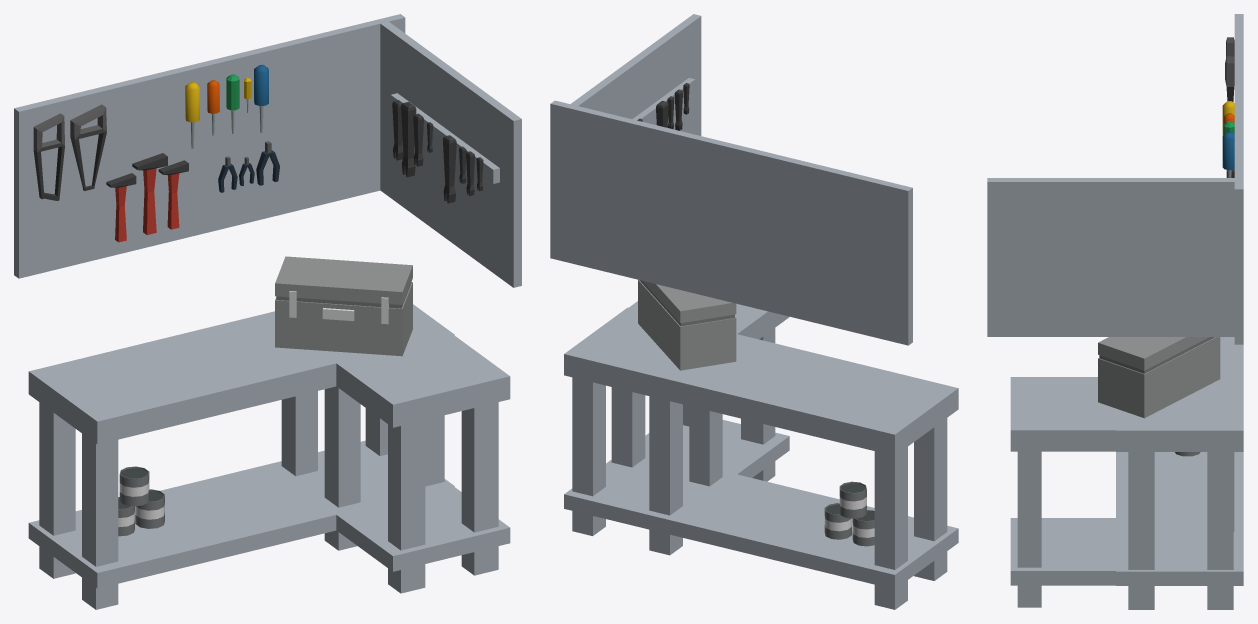
The model's file is Garage-Table.fbx.
3 renders of one model, left to right at view 1: azimuth 30°, elevation 25°; view 2: azimuth 150°, elevation 25°; view 3: azimuth 270°, elevation 25°, orthographic. The views are drawn at different scales.
Parts seen in each view (by area): view 1: Garage-Table, Box-4, Saw-3, Saw-2, Hammer-2, Paint-Box-5, Wrench-2, Paint-Box-4, Hammer-3, Hammer-1, Wrench-5, Screwdriver-5 (+1 smaller); view 2: Garage-Table, Box-4, Paint-Box-5, Paint-Box-4, Paint-Box-6; view 3: Garage-Table, Box-4, Screwdriver-5, Saw-2.
Part boxes in pixels (bbox=[...]): Garage-Table: bbox=[14, 14, 521, 609]; Box-4: bbox=[275, 256, 412, 356]; Saw-3: bbox=[33, 113, 64, 200]; Saw-2: bbox=[70, 104, 106, 190]; Hammer-2: bbox=[132, 153, 167, 234]; Paint-Box-5: bbox=[119, 466, 149, 506]; Wrench-2: bbox=[401, 102, 416, 177]; Paint-Box-4: bbox=[135, 489, 164, 528]; Hammer-3: bbox=[106, 173, 136, 242]; Hammer-1: bbox=[158, 160, 188, 229]; Wrench-5: bbox=[442, 135, 456, 203]; Screwdriver-5: bbox=[254, 64, 268, 132]; Garage-Table: bbox=[550, 14, 958, 609]; Box-4: bbox=[638, 279, 736, 370]; Paint-Box-5: bbox=[839, 481, 866, 518]; Paint-Box-4: bbox=[824, 503, 851, 539]; Paint-Box-6: bbox=[852, 510, 874, 546]; Garage-Table: bbox=[987, 14, 1243, 609]; Box-4: bbox=[1098, 337, 1220, 418]; Screwdriver-5: bbox=[1222, 131, 1234, 177]; Saw-2: bbox=[1225, 56, 1234, 101].
Size of the model in its own units: 3.25 by 3.7 by 2.01.
